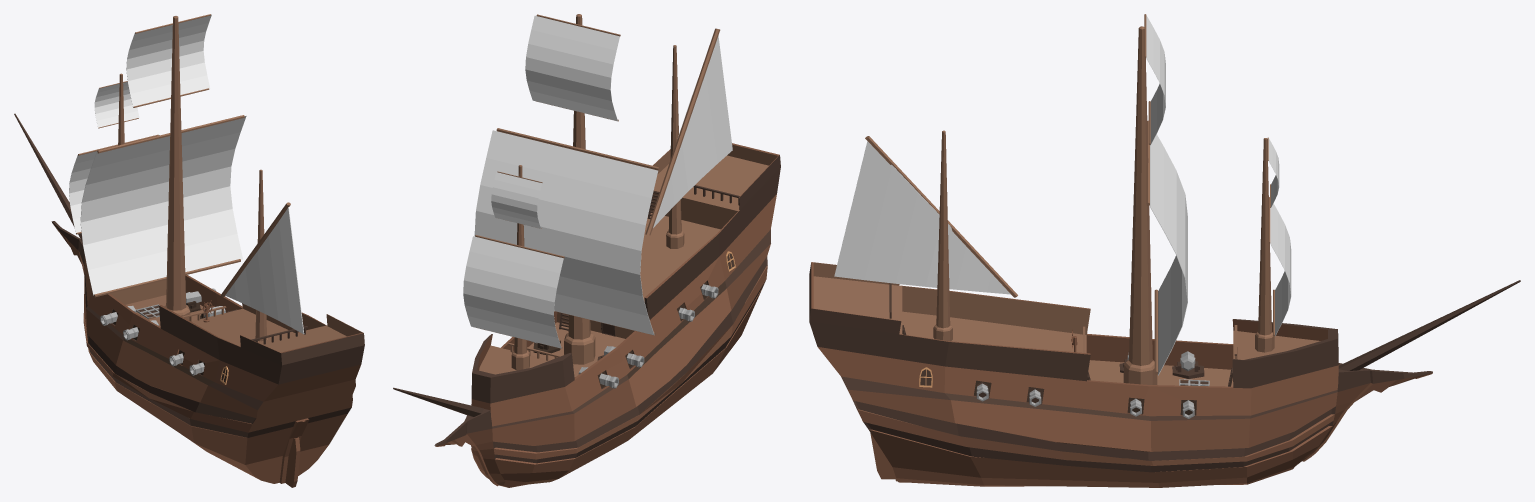
File: Seconda nave.fbx
3 views of the same model, side by side, from view 1: azimuth 30°, elevation 25°; view 2: azimuth 150°, elevation 25°; view 3: azimuth 270°, elevation 25° (orthographic). The views are drawn at different scales.
Visible parts, largest first — view 1: Base, Vela centrale bassa, Vela centrale alta, Vela latina, Vela frontale alta, Vela frontale bassa; view 2: Base, Vela centrale bassa, Vela frontale bassa, Vela centrale alta, Vela latina, Vela frontale alta; view 3: Base, Vela latina, Vela centrale bassa, Vela frontale bassa, Vela centrale alta.
Boxes of the visible parts, x1,y1,x2,y2 form: Base: [14, 16, 364, 487]; Vela centrale bassa: [80, 115, 246, 297]; Vela centrale alta: [126, 14, 211, 107]; Vela latina: [220, 202, 304, 334]; Vela frontale alta: [94, 81, 139, 128]; Vela frontale bassa: [69, 134, 159, 234]; Base: [393, 14, 780, 487]; Vela centrale bassa: [474, 128, 659, 335]; Vela frontale bassa: [463, 235, 564, 348]; Vela centrale alta: [525, 14, 620, 121]; Vela latina: [645, 28, 732, 235]; Vela frontale alta: [491, 171, 542, 228]; Base: [809, 26, 1520, 487]; Vela latina: [834, 136, 1017, 297]; Vela centrale bassa: [1146, 120, 1187, 375]; Vela frontale bassa: [1268, 197, 1291, 336]; Vela centrale alta: [1144, 14, 1165, 145].
Size of the model in its own units: 8.05 by 28.77 by 20.03.
